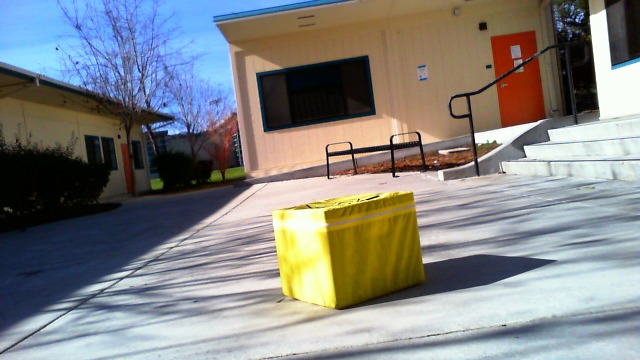cube: (263, 191, 444, 307)
